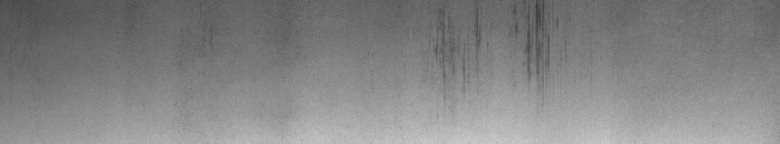ka: (434, 4, 560, 80)
